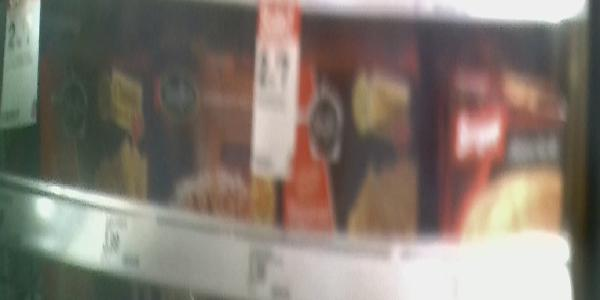pizza1: (267, 17, 433, 235), (437, 21, 564, 253), (146, 39, 261, 222), (40, 39, 147, 203)
